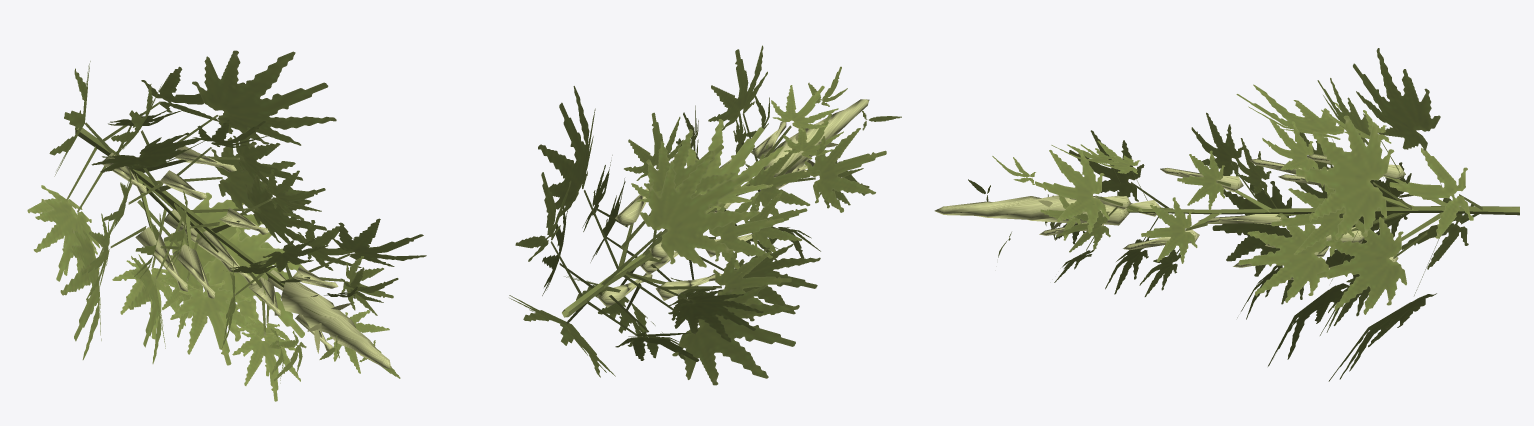
The model's file is p_frosty_landrace_flowering_c1_cards.obj.
3 views of the same model, side by side, from view 1: azimuth 30°, elevation 25°; view 2: azimuth 150°, elevation 25°; view 3: azimuth 270°, elevation 25° (orthographic). The views are drawn at different scales.
Bounding box in the file's own units: 1.31 × 1.34 × 2.12.
Materials: 1 (1 with a texture image).
